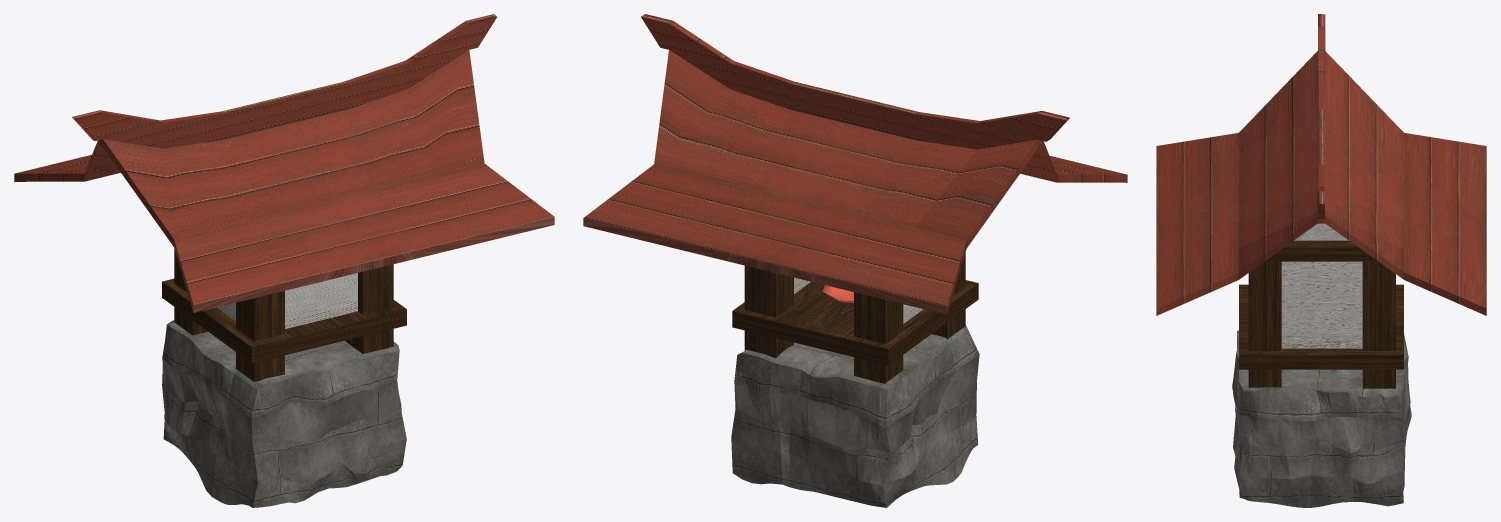
3 views of the same model, side by side, from view 1: azimuth 30°, elevation 25°; view 2: azimuth 150°, elevation 25°; view 3: azimuth 270°, elevation 25° (orthographic). The views are drawn at different scales.
Parts seen in each view (by area): view 1: 立方体.005, 立方体, 立方体.006, 立方体.001; view 2: 立方体.005, 立方体, 立方体.006, 立方体.001; view 3: 立方体.005, 立方体, 立方体.001, 立方体.006, 立方体.002.
Boxes of the visible parts, bbox=[...] form: 立方体.005: bbox=[14, 14, 554, 328]; 立方体: bbox=[162, 320, 406, 507]; 立方体.006: bbox=[162, 278, 406, 363]; 立方体.001: bbox=[174, 249, 393, 381]; 立方体.005: bbox=[583, 14, 1127, 323]; 立方体: bbox=[731, 325, 979, 507]; 立方体.006: bbox=[732, 280, 978, 365]; 立方体.001: bbox=[744, 253, 965, 383]; 立方体.005: bbox=[1156, 14, 1486, 348]; 立方体: bbox=[1232, 330, 1411, 507]; 立方体.001: bbox=[1248, 261, 1395, 388]; 立方体.006: bbox=[1239, 284, 1403, 369]; 立方体.002: bbox=[1265, 240, 1377, 261].
Size of the model in its own units: 545 by 499 by 400.
7 materials, 6 textured.
